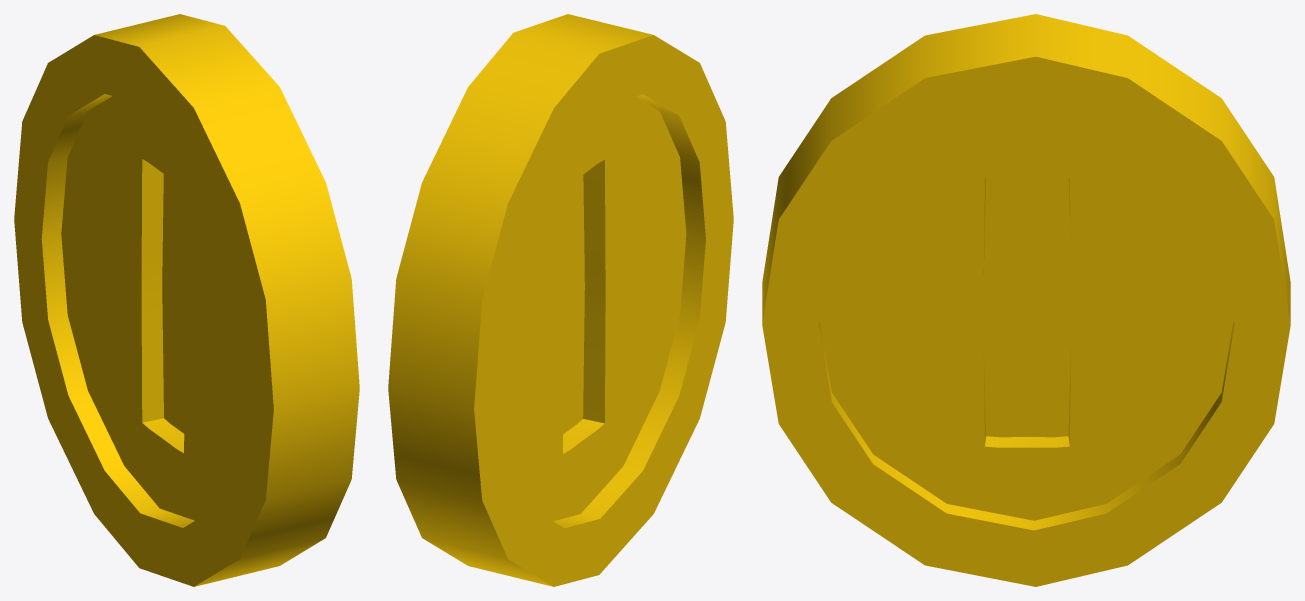
Rendered from coin.glb.
3 views of the same model, side by side, from view 1: azimuth 30°, elevation 25°; view 2: azimuth 150°, elevation 25°; view 3: azimuth 270°, elevation 25° (orthographic).
Visible parts, largest first — view 1: Coin_6; view 2: Coin_6; view 3: Coin_6.
Boxes of the visible parts, x1,y1,x2,y2 form: Coin_6: (14, 14, 359, 586); Coin_6: (388, 14, 733, 586); Coin_6: (762, 14, 1290, 586).
Size of the model in its own units: 0.5101 by 2.96 by 2.67.
1 material, 1 textured.
